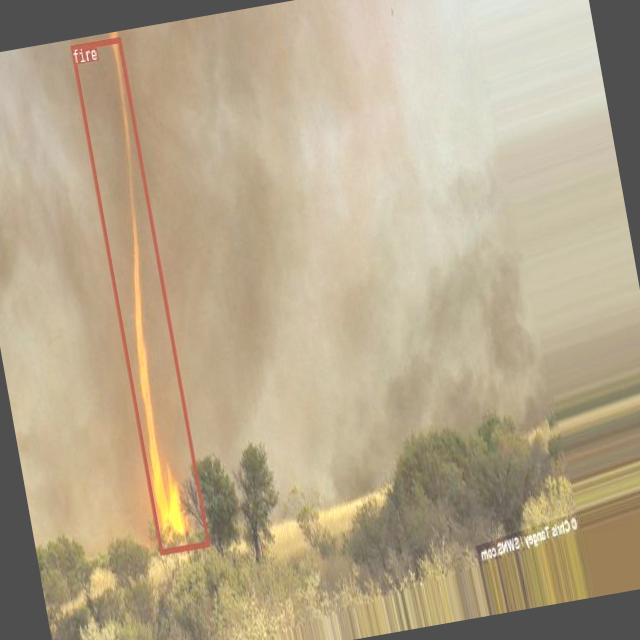fire: (70, 36, 210, 554)
